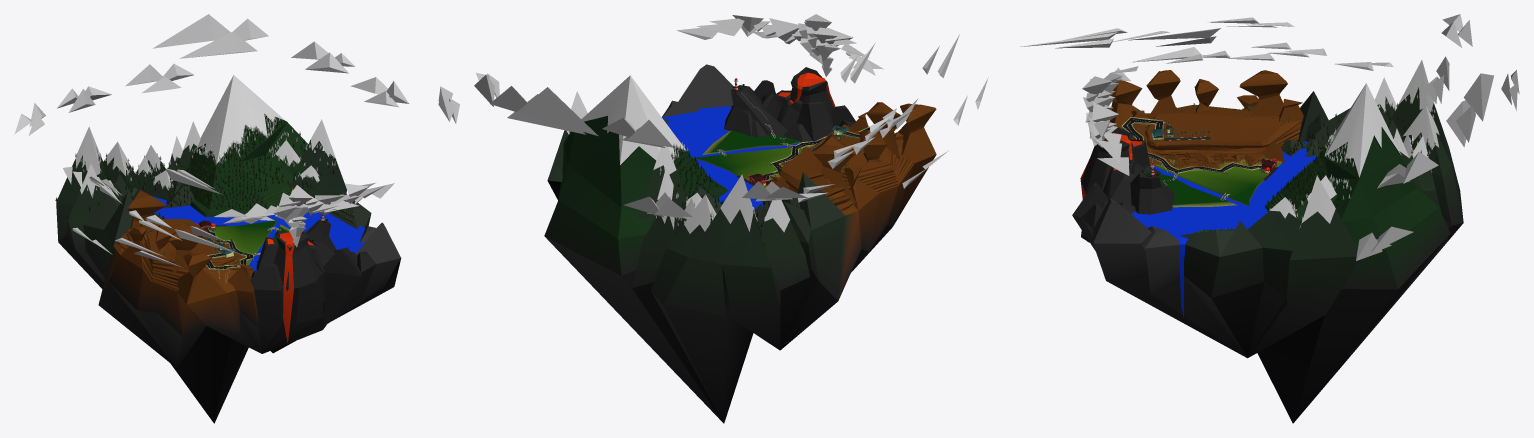
The model's file is e_fourseasons.fbx.
3 views of the same model, side by side, from view 1: azimuth 30°, elevation 25°; view 2: azimuth 150°, elevation 25°; view 3: azimuth 270°, elevation 25° (orthographic). The views are drawn at different scales.
Visible parts, largest first — view 1: e_fourseasons; view 2: e_fourseasons; view 3: e_fourseasons.
Boxes of the visible parts, x1,y1,x2,y2 form: e_fourseasons: (14,14,409,423); e_fourseasons: (438,14,988,423); e_fourseasons: (1020,14,1519,423).
Size of the model in its own units: 883 by 753 by 872.
